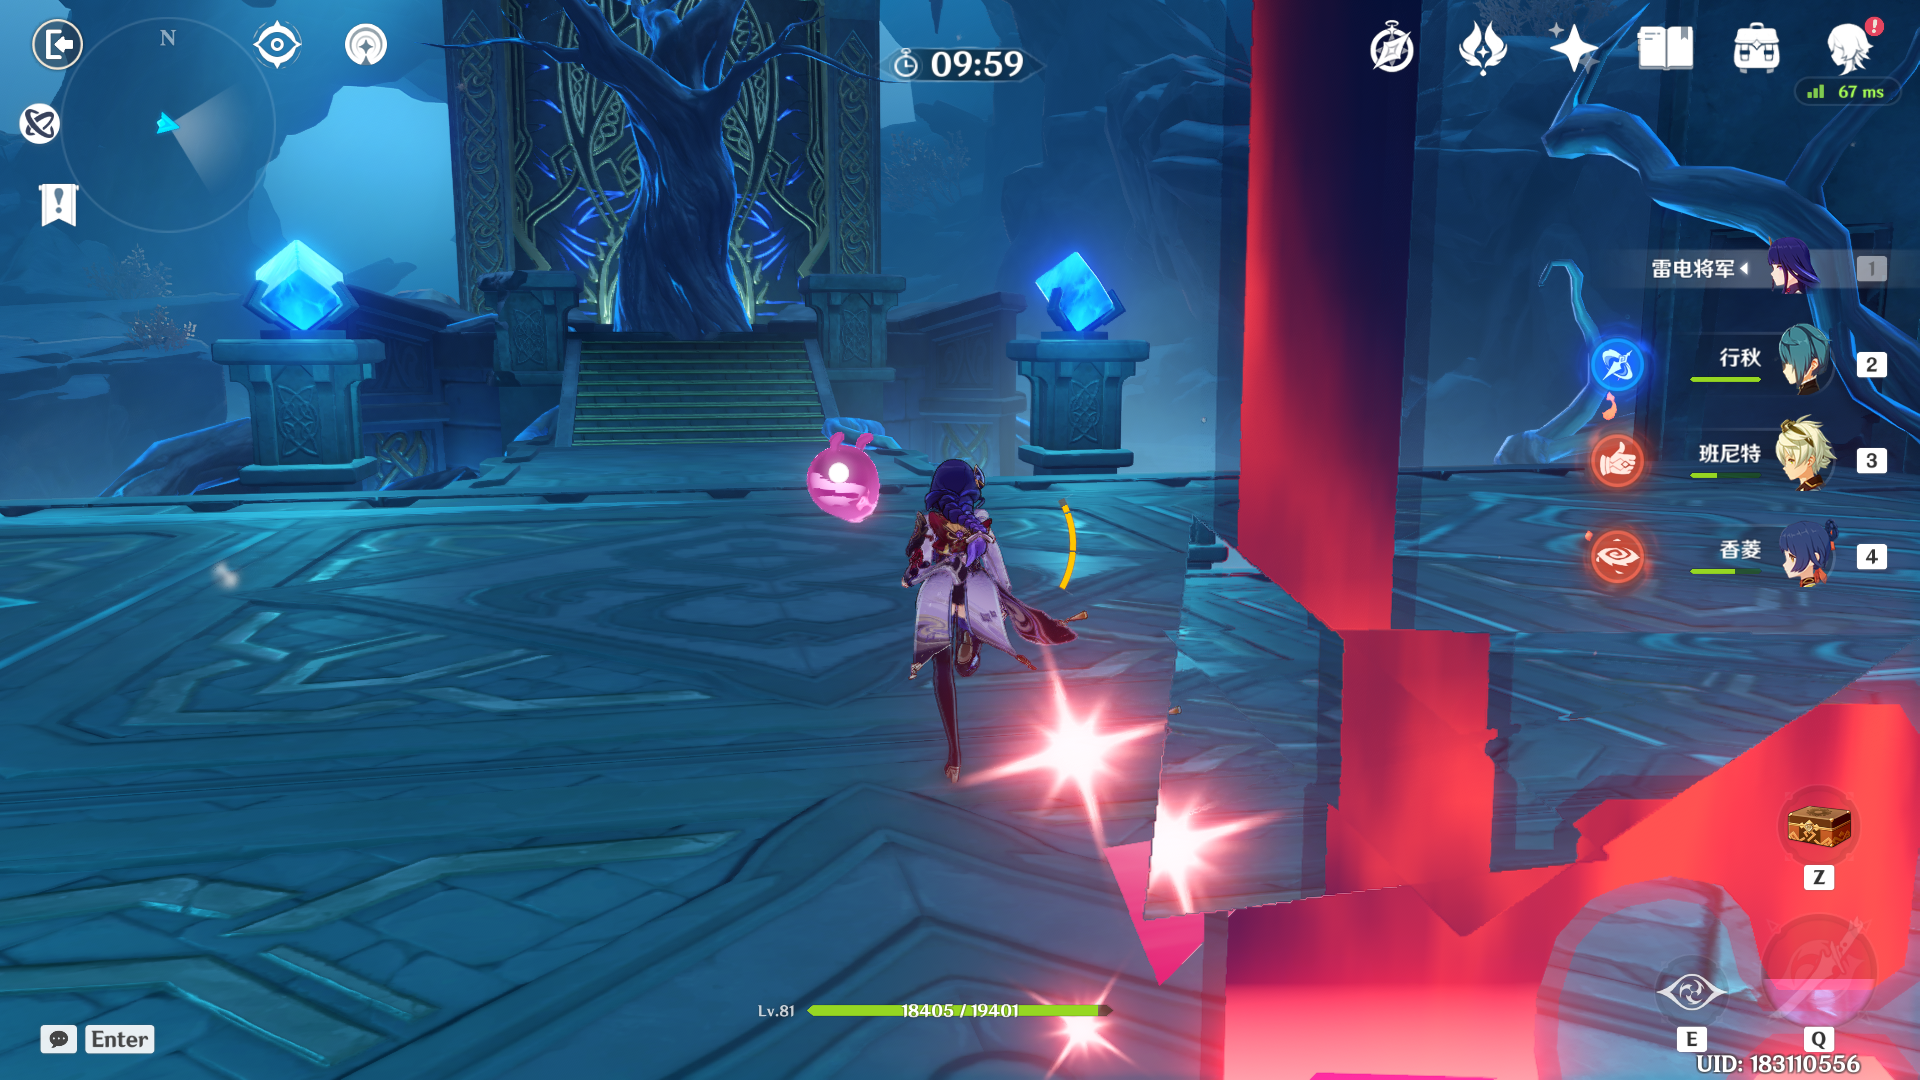character: (802, 436, 1084, 771)
